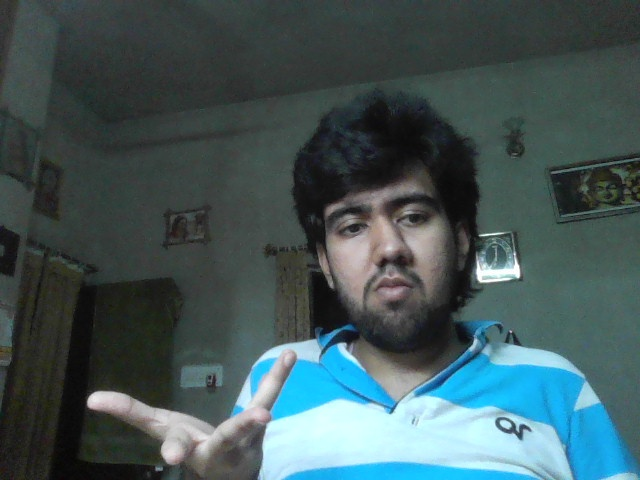What: (87, 348, 298, 480)
